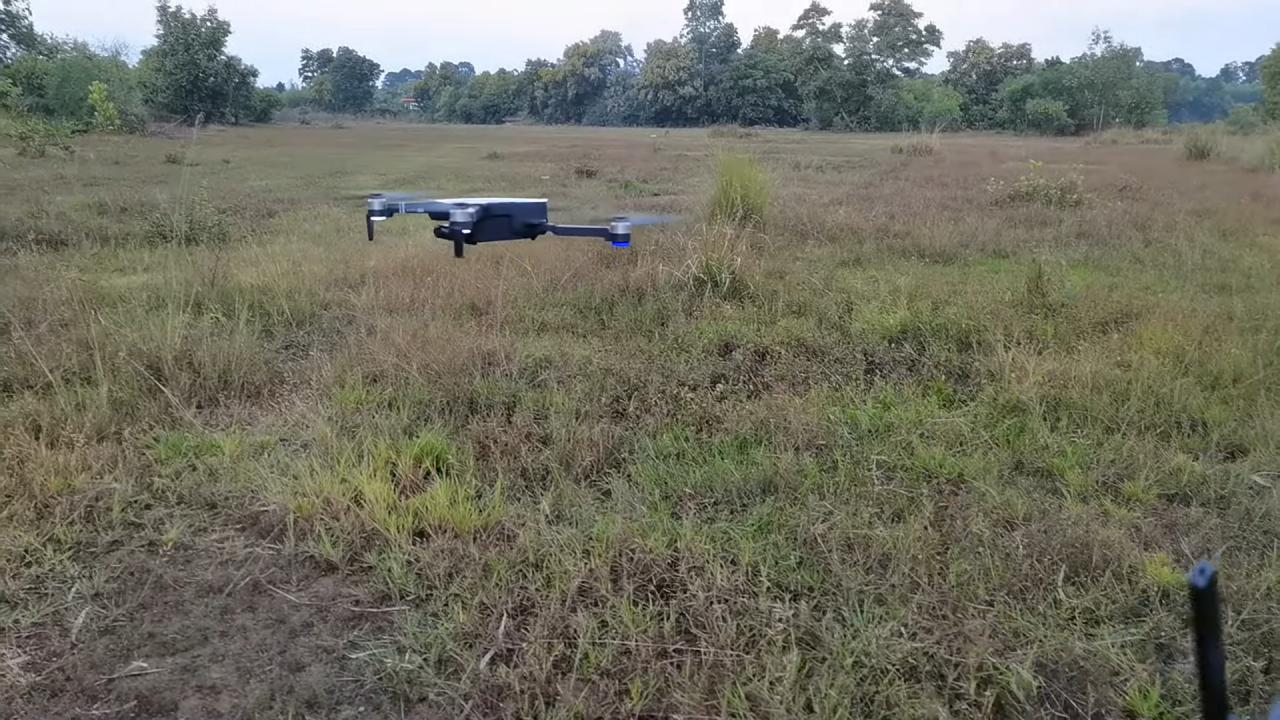Drone: (334, 178, 697, 272)
